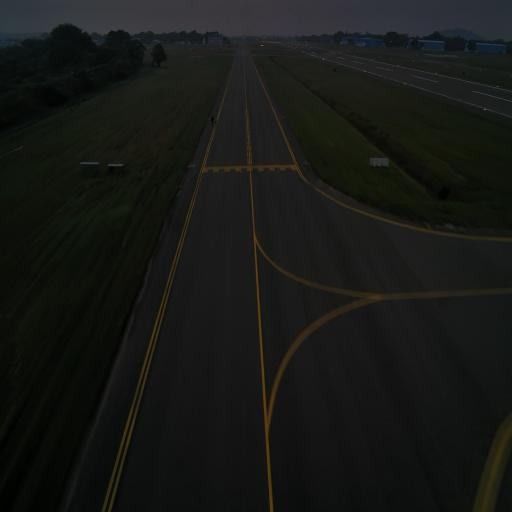off: (221, 170, 223, 176), (277, 169, 280, 173), (240, 170, 242, 174), (259, 170, 260, 174)
on: (448, 218, 454, 230), (193, 161, 195, 166), (305, 159, 307, 163), (210, 114, 212, 118), (282, 114, 284, 118)
